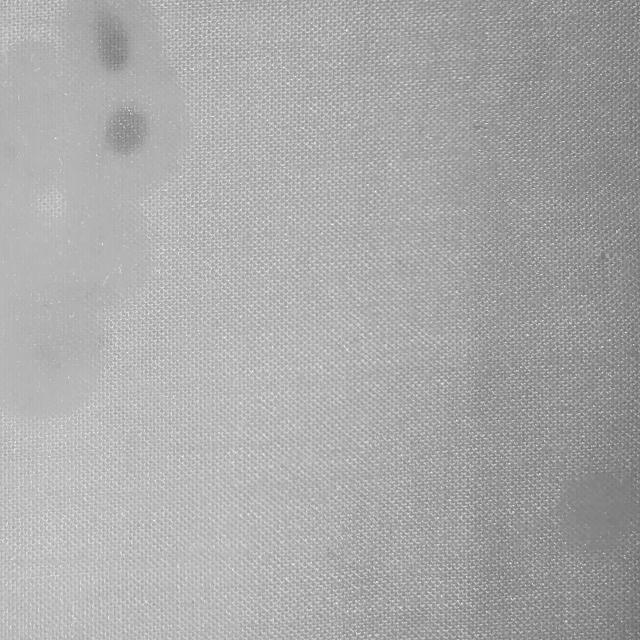Thread_other: (474, 387, 640, 639), (89, 99, 168, 177), (82, 10, 150, 82)
